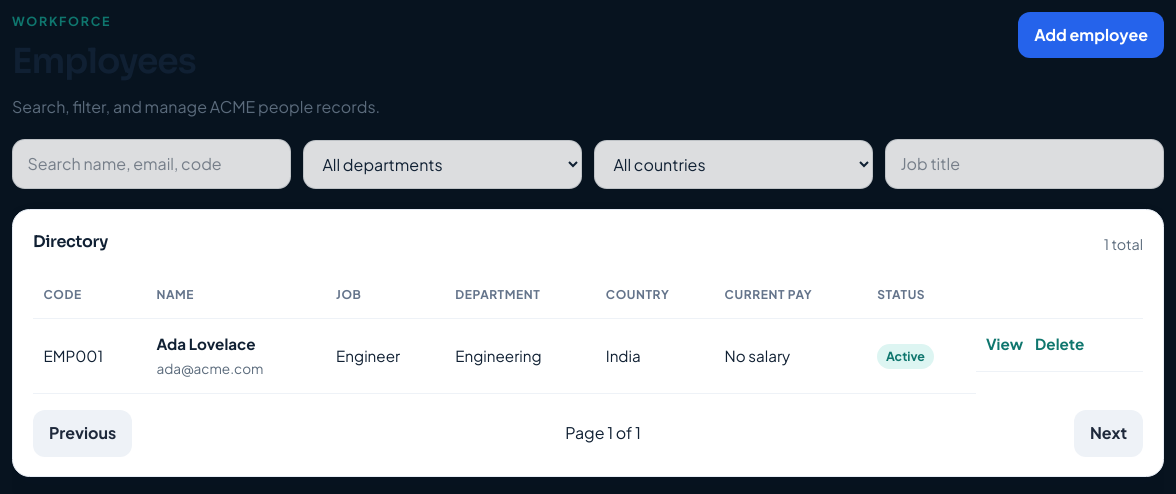
Test: Employees page › soft-deletes an employee after confirm
Check: the text "Ada Lovelace" is shown, box [156,334,256,353]
Click the button "Delete": (1060, 345) [1035,333,1084,356]
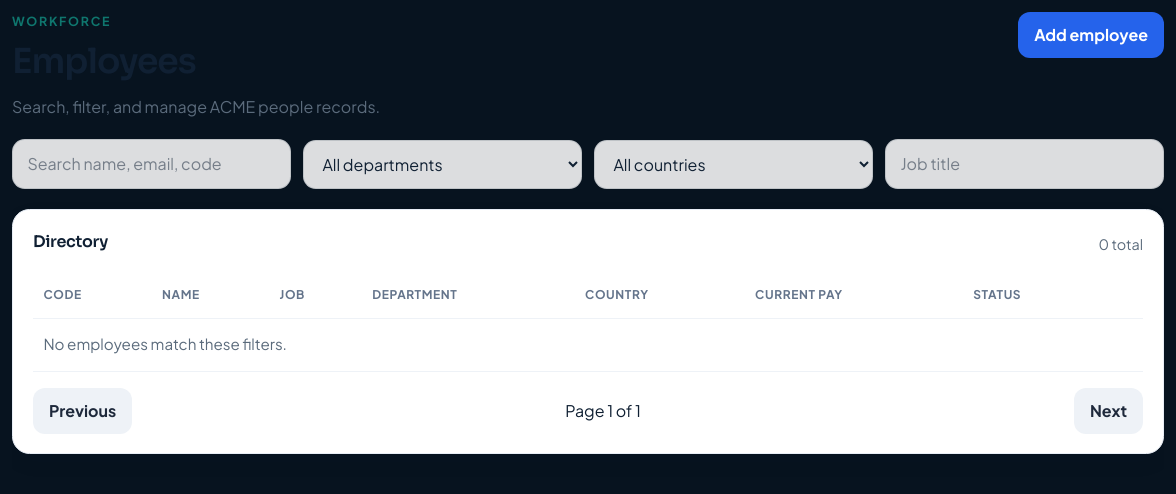
Check: the text "Ada Lovelace" is gone
